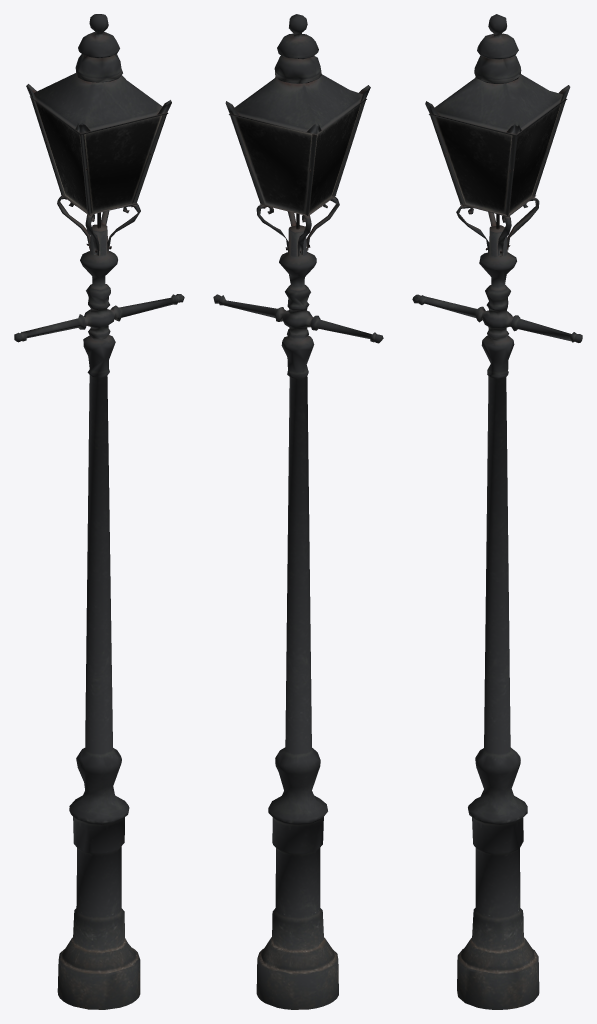
The model's file is street_lamp_tall.glb.
3 renders of one model, left to right at view 1: azimuth 30°, elevation 25°; view 2: azimuth 150°, elevation 25°; view 3: azimuth 330°, elevation 25°, orthographic.
Parts seen in each view (by area): view 1: street_lamp_01; view 2: street_lamp_01; view 3: street_lamp_01.
Part boxes in pixels (<box>): street_lamp_01: <box>14,14,184,1009</box>; street_lamp_01: <box>213,14,383,1009</box>; street_lamp_01: <box>412,14,582,1009</box>.
Bounding box in the file's own units: 0.7011 × 3.87 × 0.3857.
Materials: 2 (2 with a texture image).
